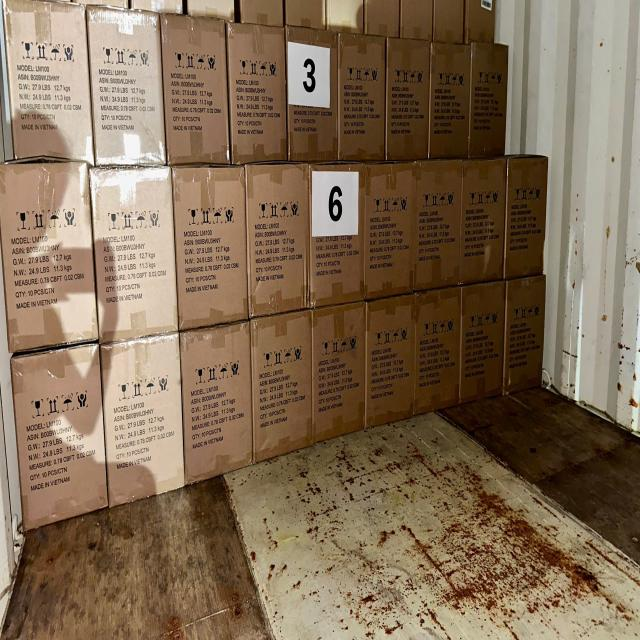Carton: (0, 161, 96, 349), (13, 340, 105, 522), (91, 165, 178, 341), (2, 3, 92, 161), (102, 336, 187, 498), (89, 7, 170, 164), (174, 162, 252, 320), (162, 15, 235, 164), (178, 324, 253, 468), (247, 163, 313, 311), (252, 312, 314, 454), (225, 24, 286, 164), (310, 162, 366, 300), (363, 163, 417, 294), (284, 35, 337, 166), (315, 307, 369, 435), (365, 300, 415, 424), (416, 161, 462, 289), (339, 39, 385, 164), (415, 290, 460, 409), (388, 42, 432, 163), (465, 160, 508, 283), (463, 286, 507, 403), (504, 157, 544, 277), (430, 42, 470, 160), (471, 46, 510, 159), (504, 280, 543, 392), (432, 0, 463, 43), (365, 0, 400, 37), (467, 0, 497, 43), (402, 0, 433, 40), (240, 1, 286, 27), (187, 1, 235, 20), (131, 0, 185, 15)
